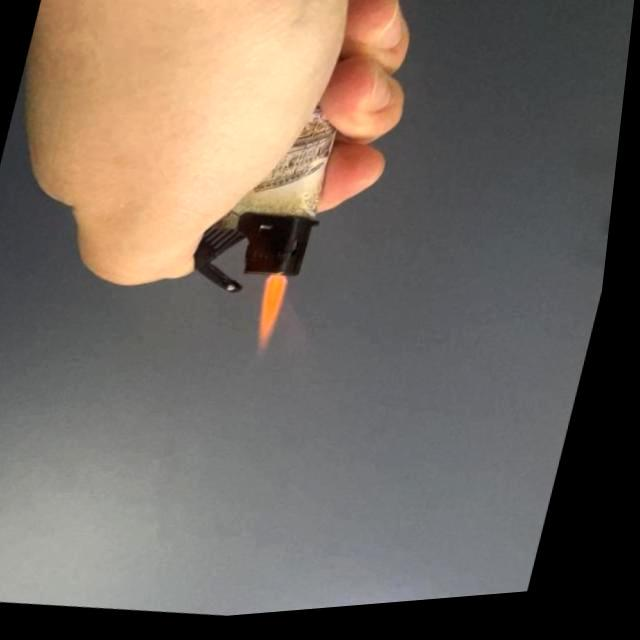fire: (250, 274, 306, 366)
